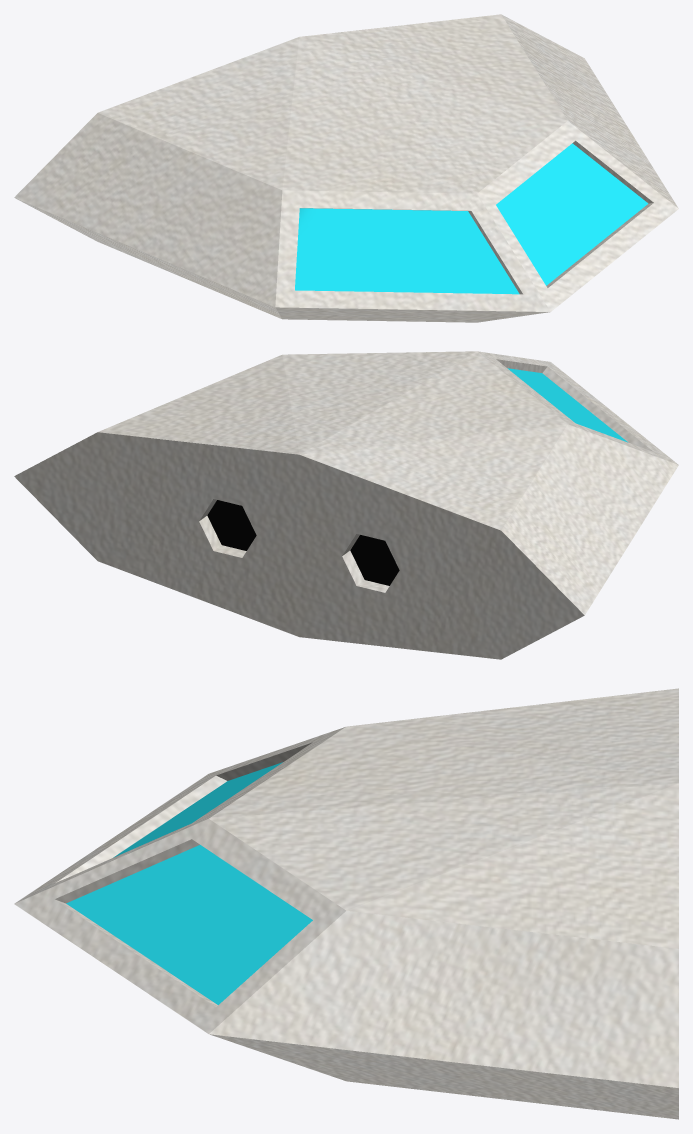
The model's file is NPCShip.fbx.
3 renders of one model, top to bottom at view 1: azimuth 30°, elevation 25°; view 2: azimuth 150°, elevation 25°; view 3: azimuth 270°, elevation 25°, orthographic. The views are drawn at different scales.
Visible parts, largest first — view 1: Sphere; view 2: Sphere; view 3: Sphere.
Part boxes in pixels (<box>): Sphere: <box>14,14,678,322</box>; Sphere: <box>14,351,678,659</box>; Sphere: <box>14,688,678,1119</box>.
Bounding box in the file's own units: 655 × 200 × 499.
